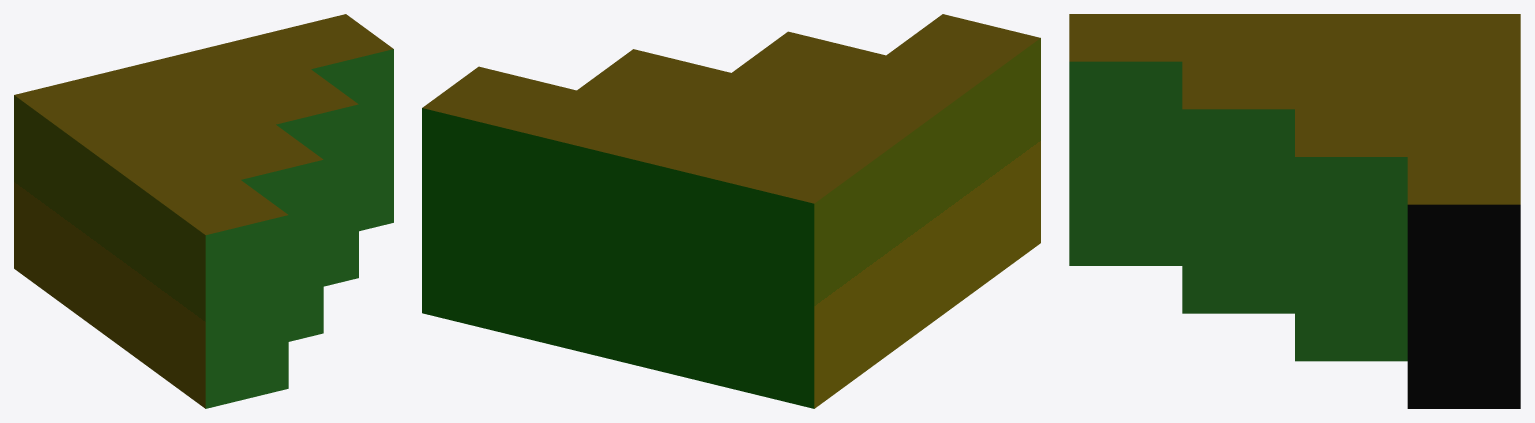
Rendered from block_9.fbx.
The picture shows the model from 3 angles, left to right: view 1: azimuth 30°, elevation 25°; view 2: azimuth 150°, elevation 25°; view 3: azimuth 270°, elevation 25°; orthographic projection. The views are drawn at different scales.
Parts seen in each view (by area): view 1: Box; view 2: Box; view 3: Box.
Boxes of the visible parts, box(x1,y1,x2,y2) form: Box: box(14, 14, 393, 408); Box: box(422, 14, 1040, 408); Box: box(1069, 14, 1520, 408).
Bounding box in the file's own units: 4 × 4 × 2.
1 material, 1 textured.
